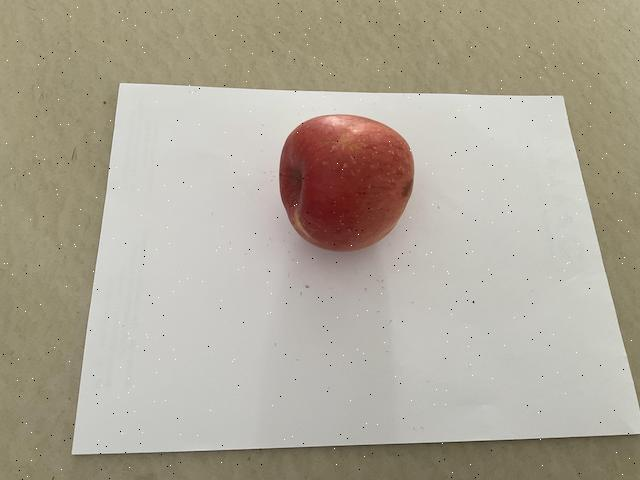apple: (271, 107, 417, 255)
